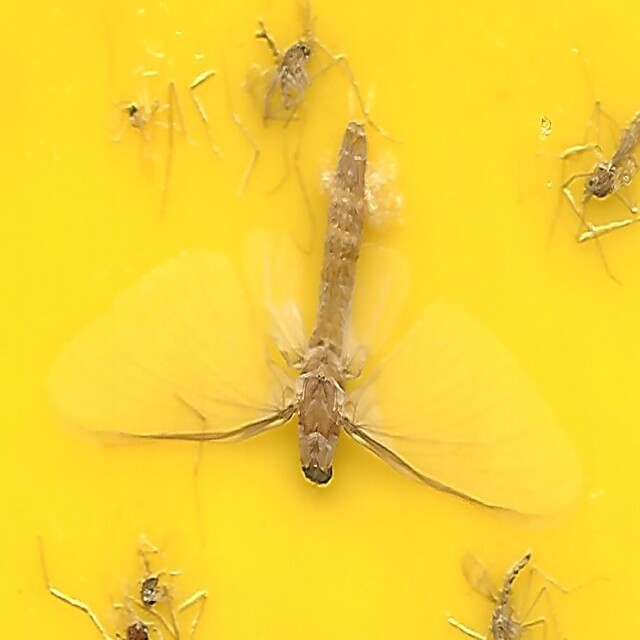Ephemeroptera: (71, 122, 569, 518)
